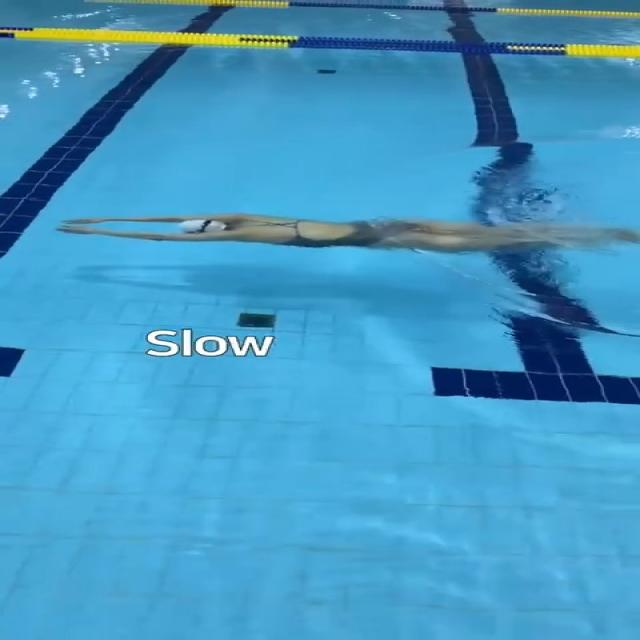Swimming: (55, 204, 635, 256)
